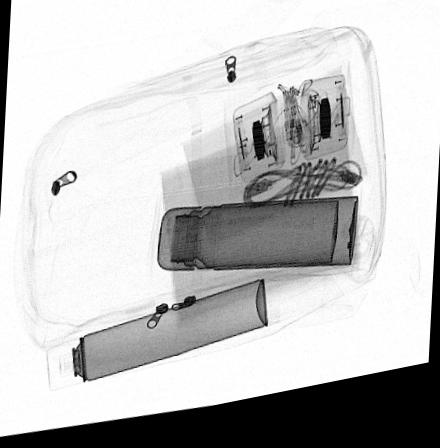Sprayer: (46, 289, 267, 394)
